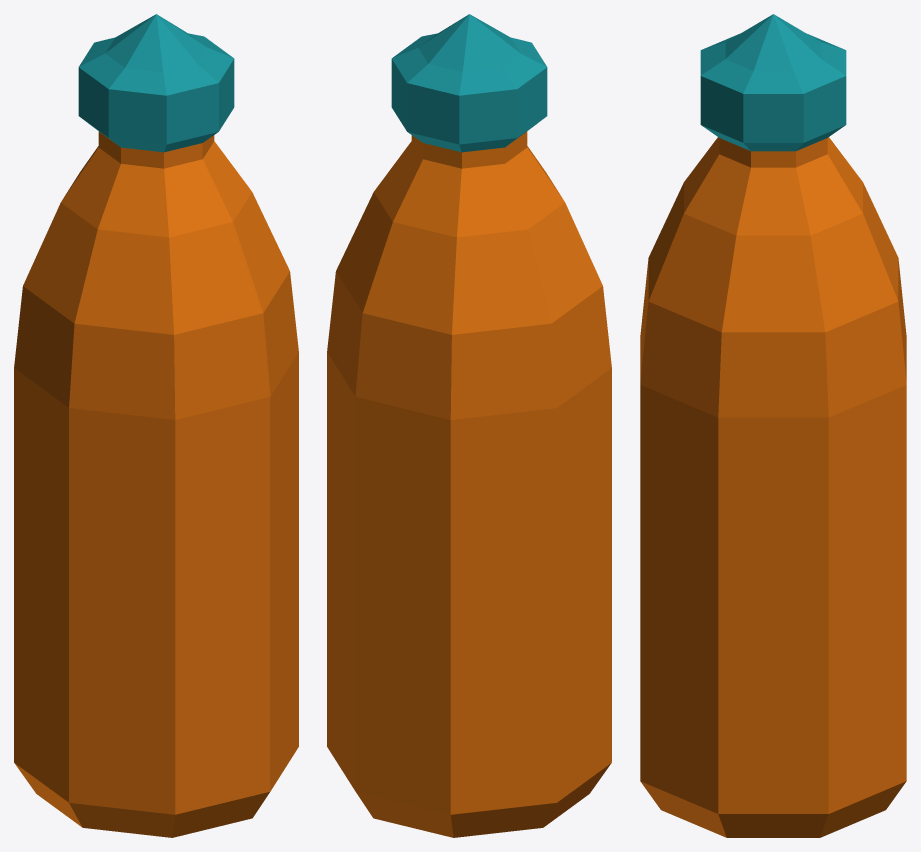
Rendered from SM_Cook_SauceBottle_Fish_01.glb.
The picture shows the model from 3 angles, left to right: view 1: azimuth 30°, elevation 25°; view 2: azimuth 150°, elevation 25°; view 3: azimuth 270°, elevation 25°; orthographic projection.
Parts seen in each view (by area): view 1: SM_Cook_SauceBottle_Fish_01; view 2: SM_Cook_SauceBottle_Fish_01; view 3: SM_Cook_SauceBottle_Fish_01.
Boxes of the visible parts, x1=… form: SM_Cook_SauceBottle_Fish_01: x1=14, y1=14, x2=298, y2=837; SM_Cook_SauceBottle_Fish_01: x1=327, y1=14, x2=611, y2=837; SM_Cook_SauceBottle_Fish_01: x1=640, y1=14, x2=906, y2=837.
Size of the model in its own units: 0.0591 by 0.19 by 0.0591.
1 material, 1 textured.
